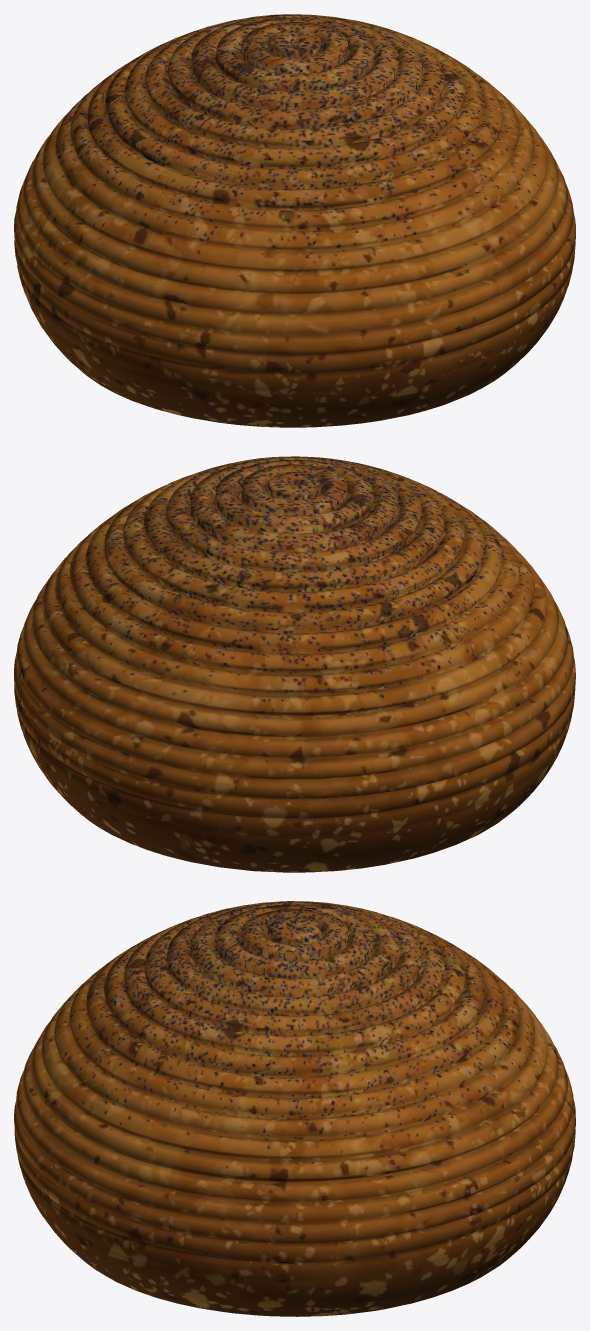
Rendered from wholewheat--poppyseed-seed.glb.
3 views of the same model, one above another, from view 1: azimuth 30°, elevation 25°; view 2: azimuth 150°, elevation 25°; view 3: azimuth 270°, elevation 25° (orthographic).
Visible parts, largest first — view 1: wholewheat_poppyseed-seed; view 2: wholewheat_poppyseed-seed; view 3: wholewheat_poppyseed-seed.
Part boxes in pixels (x1,y1,x2,y2): wholewheat_poppyseed-seed: [14, 14, 575, 427]; wholewheat_poppyseed-seed: [14, 456, 575, 872]; wholewheat_poppyseed-seed: [14, 901, 575, 1316].
Size of the model in its own units: 0.9999 by 0.5691 by 0.998.
Materials: 1 (1 with a texture image).
